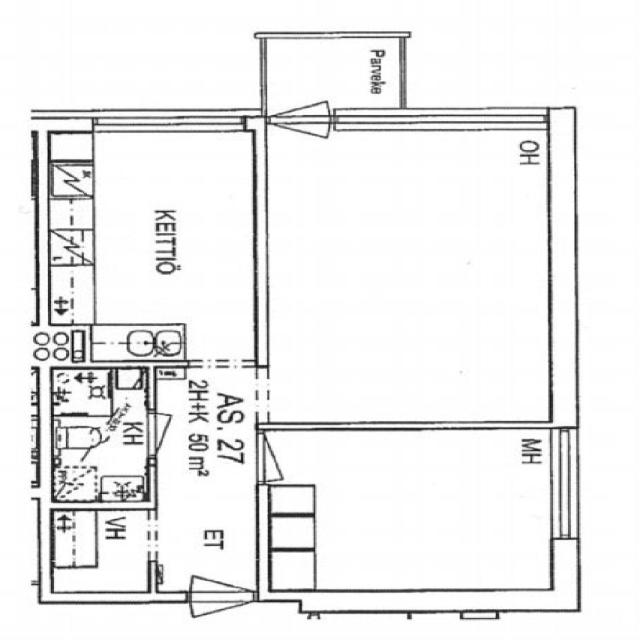door: (181, 571, 256, 621), (274, 94, 341, 144), (141, 407, 167, 459)
window: (540, 430, 589, 542), (85, 109, 247, 139), (253, 424, 282, 485), (254, 368, 279, 423), (142, 408, 166, 461), (191, 353, 253, 372)
zone: (45, 121, 266, 359), (260, 426, 566, 594), (149, 364, 267, 511), (48, 412, 154, 508), (47, 508, 154, 600), (50, 366, 114, 419)
